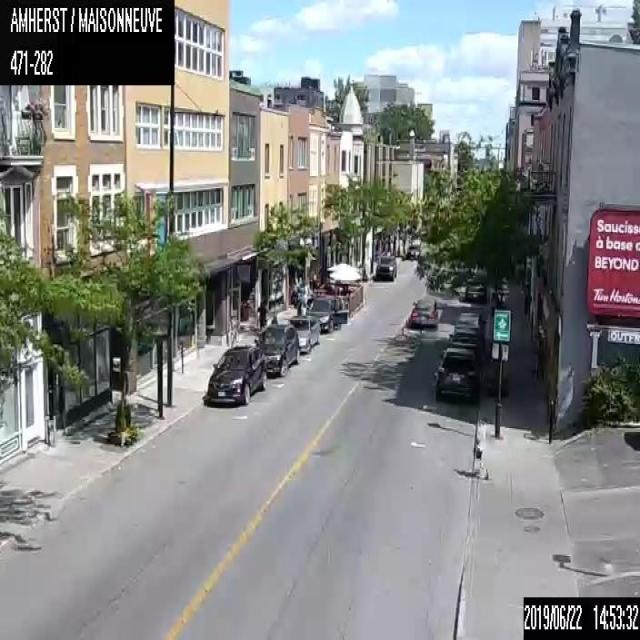vehicle: (206, 344, 266, 403), (434, 347, 484, 402), (251, 324, 301, 375), (304, 295, 347, 330), (285, 314, 319, 351), (407, 292, 441, 328), (442, 335, 483, 361), (450, 312, 487, 334), (374, 253, 397, 280), (464, 278, 486, 302), (404, 242, 422, 258)
